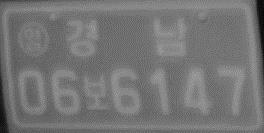0: (16, 69, 48, 116)
1: (148, 68, 175, 117)
4: (182, 65, 213, 120)
6: (109, 66, 142, 117), (50, 69, 81, 114)
7: (215, 64, 248, 119)
경남_D: (63, 14, 189, 59)
보: (82, 73, 109, 112)
영: (16, 21, 50, 59)
